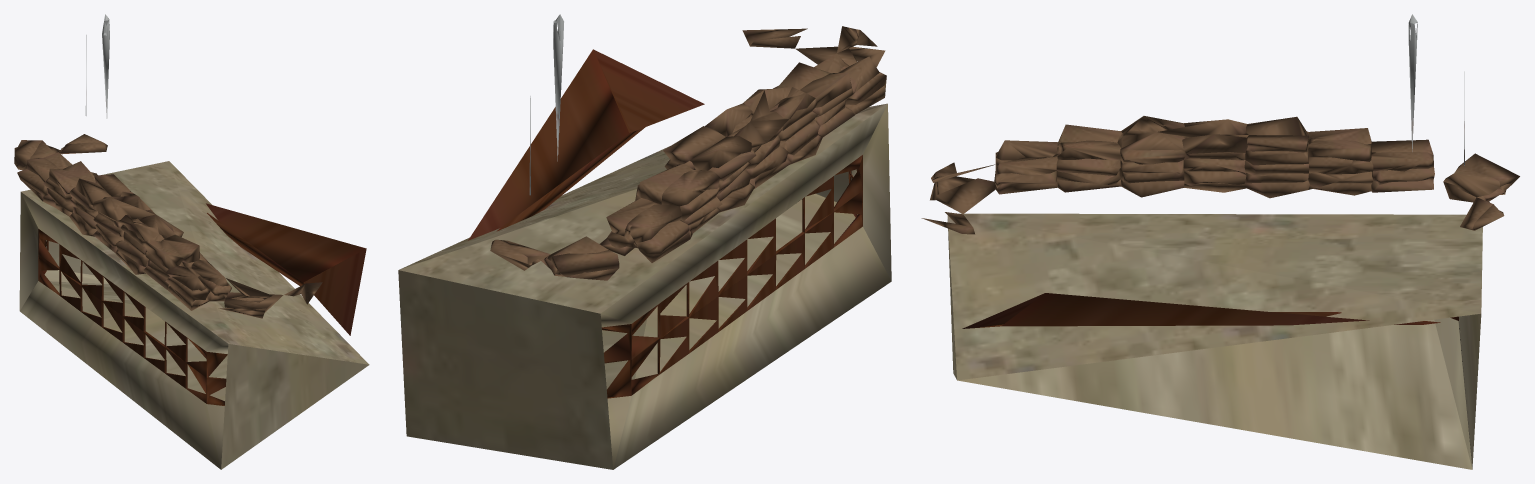
The model's file is mil_outpost_lod1.glb.
3 views of the same model, side by side, from view 1: azimuth 30°, elevation 25°; view 2: azimuth 150°, elevation 25°; view 3: azimuth 270°, elevation 25° (orthographic). The views are drawn at different scales.
Visible parts, largest first — view 1: mil_outpost; view 2: mil_outpost; view 3: mil_outpost.
Boxes of the visible parts, x1=… form: mil_outpost: x1=14, y1=14, x2=369, y2=469; mil_outpost: x1=398, y1=14, x2=891, y2=469; mil_outpost: x1=921, y1=14, x2=1519, y2=469.
Bounding box in the file's own units: 4.77 × 7.08 × 9.61.
Materials: 1 (1 with a texture image).
